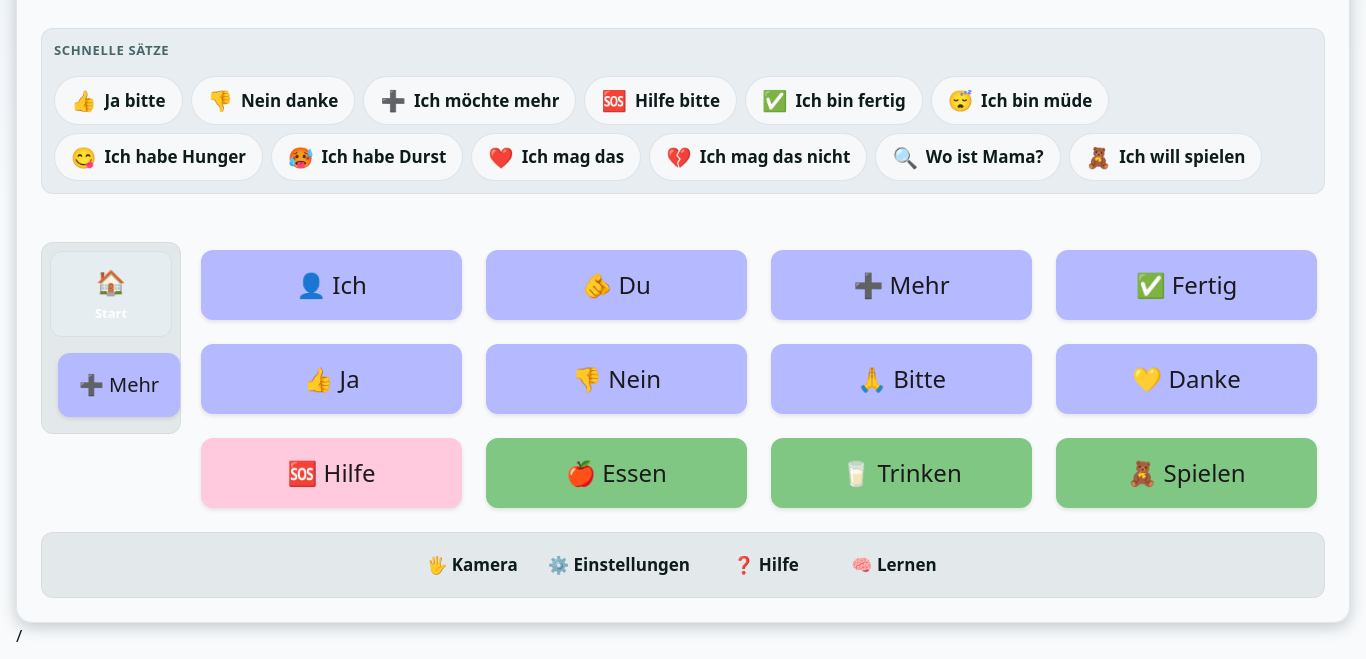
Test: MetacomBoard › allows saving a symbol to the memory shelf
(page scrolled)
What coordinates should you click on to do the following:
click the button "👍 Ja"
I would click on:
 (332, 379)
Its box is [201, 344, 462, 414].
(page scrolled)
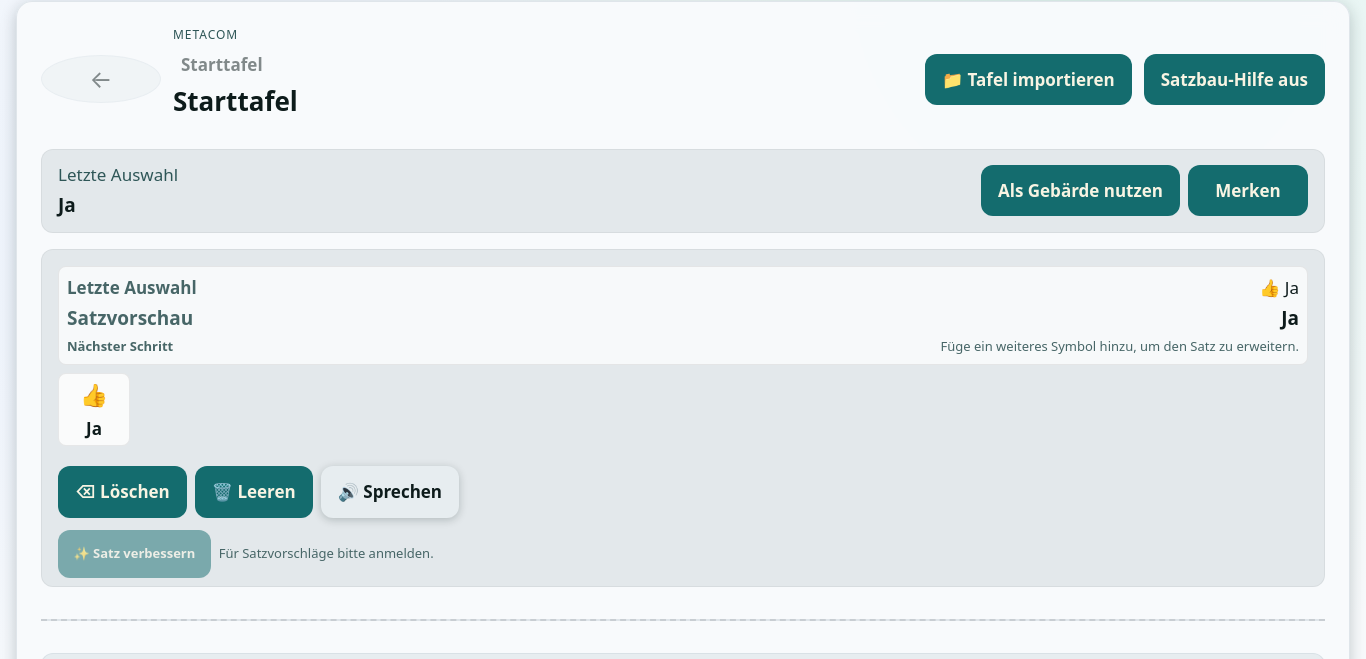
What coordinates should you click on to do the following:
click the button "Merken"
I would click on:
 (1248, 191)
Its box is [1188, 165, 1308, 216].
(page scrolled)
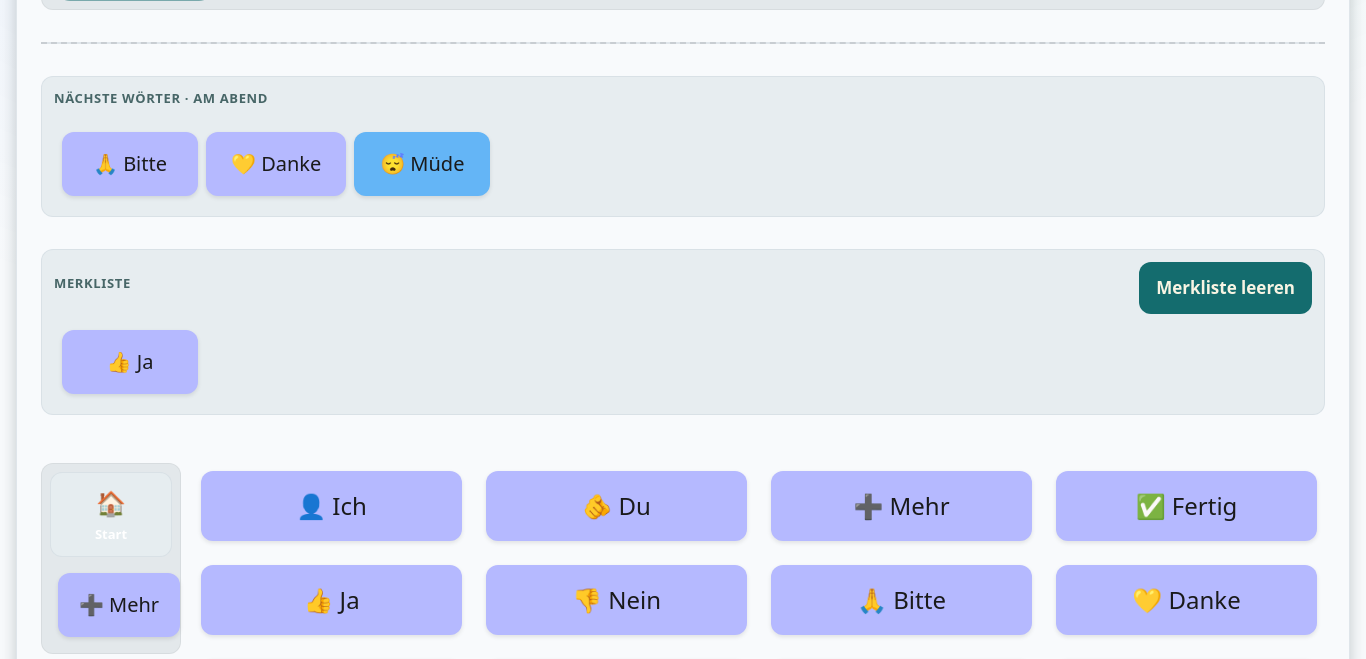
Expected: the text "Merkliste" is shown, [54, 274, 131, 294]
Expected: the 1st button "👍 Ja" is shown, [62, 330, 198, 394]
